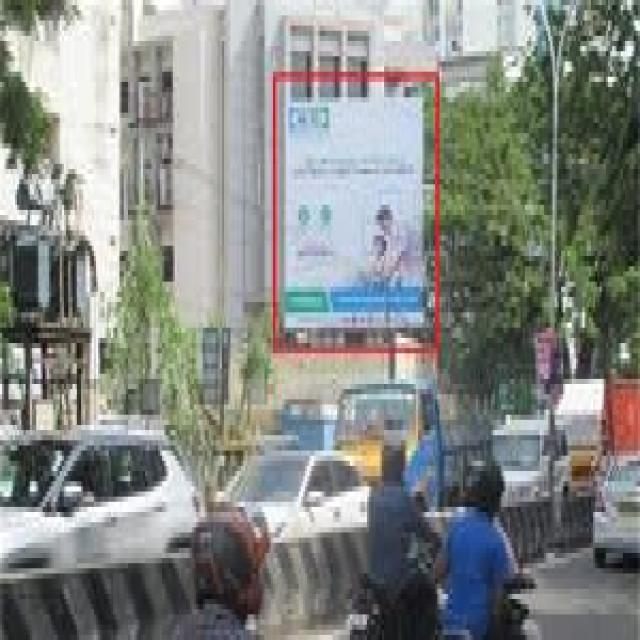Werbetafel frei: (278, 90, 427, 346)
